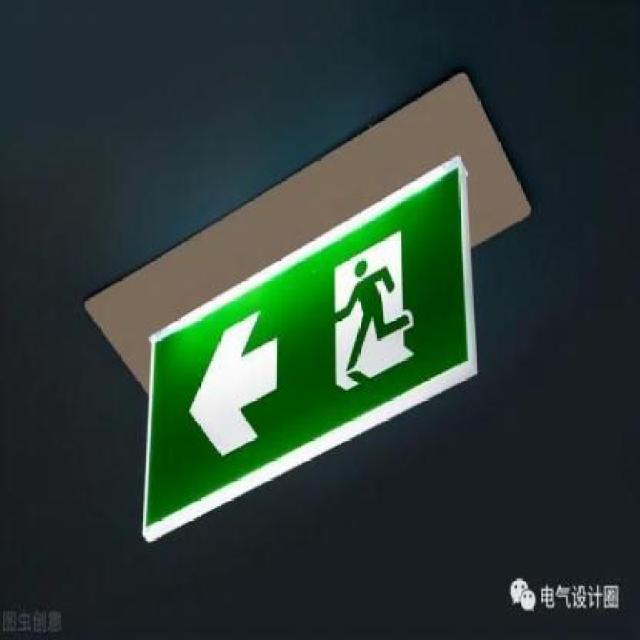exit_sign: (136, 155, 492, 531)
